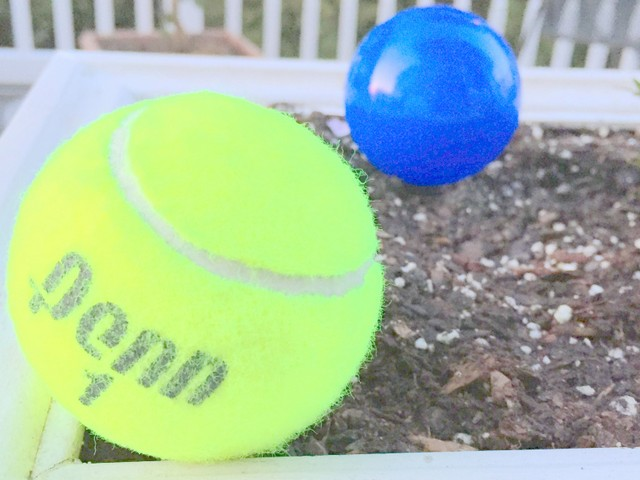ball: (345, 5, 526, 188)
